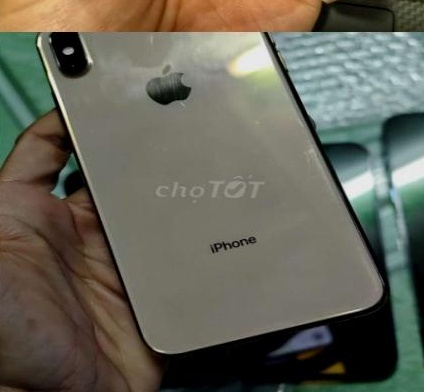scratch: (290, 139, 333, 167), (157, 94, 206, 118), (233, 110, 280, 133)
